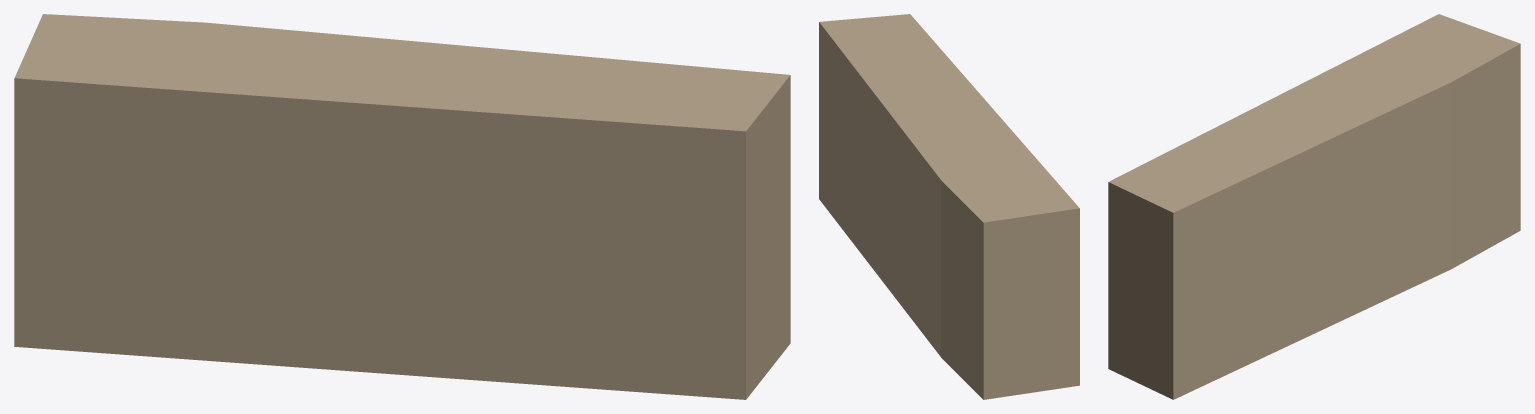
The model's file is bld_1527149211.dae.
3 renders of one model, left to right at view 1: azimuth 30°, elevation 25°; view 2: azimuth 150°, elevation 25°; view 3: azimuth 270°, elevation 25°, orthographic. The views are drawn at different scales.
Parts seen in each view (by area): view 1: King Traditional Indian Curries; view 2: King Traditional Indian Curries; view 3: King Traditional Indian Curries.
Boxes of the visible parts, box(x1,y1,x2,y2) form: King Traditional Indian Curries: box(14, 14, 790, 399); King Traditional Indian Curries: box(819, 14, 1079, 399); King Traditional Indian Curries: box(1108, 14, 1520, 399).
Bounding box in the file's own units: 18.25 × 15.98 × 8.
